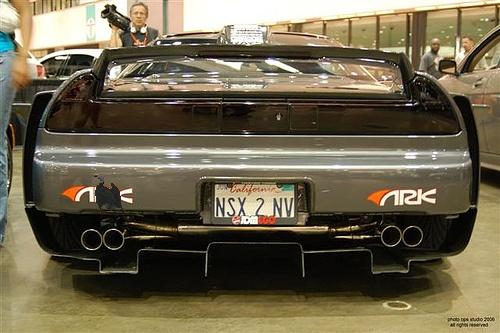tampered: (95, 176, 149, 214)
